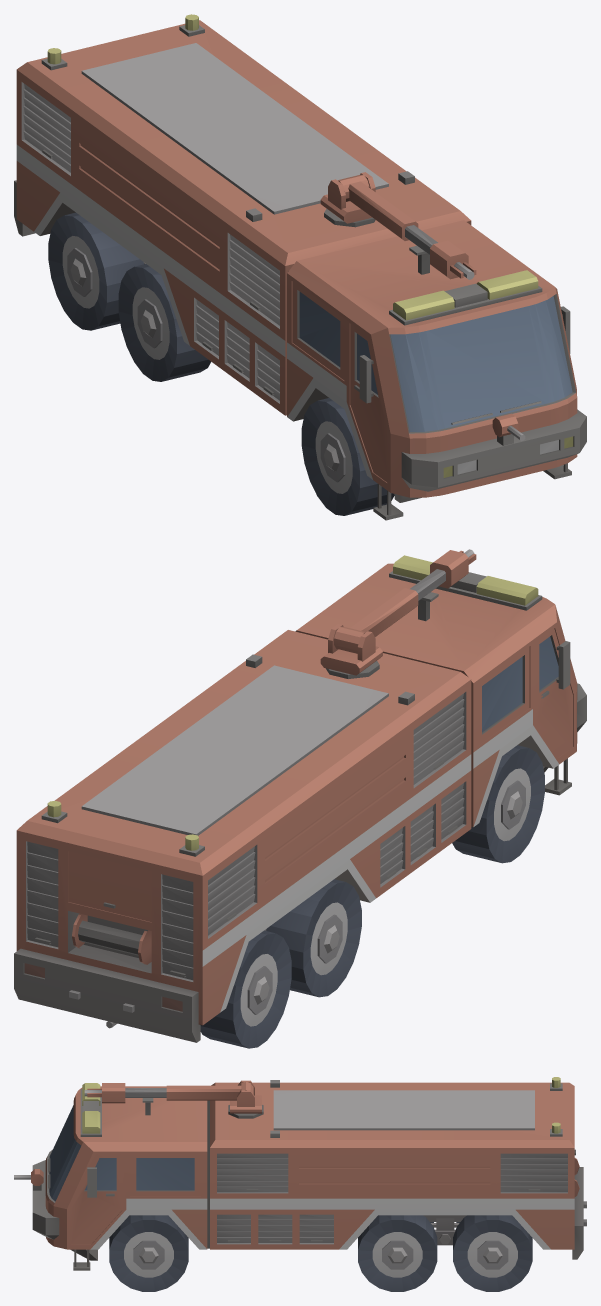
File: tender.glb
3 renders of one model, top to bottom at view 1: azimuth 30°, elevation 25°; view 2: azimuth 150°, elevation 25°; view 3: azimuth 270°, elevation 25°, orthographic. The views are drawn at different scales.
Parts seen in each view (by area): view 1: tender; view 2: tender; view 3: tender.
Part boxes in pixels (x1,y1,x2,y2): tender: (14, 14, 586, 520); tender: (14, 549, 586, 1048); tender: (14, 1077, 586, 1291).
Size of the model in its own units: 3.02 by 3.67 by 10.83.
